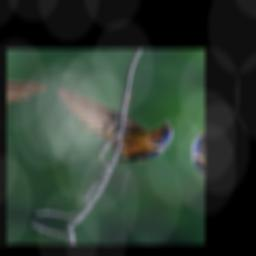Swallow: (33, 86, 182, 177)
